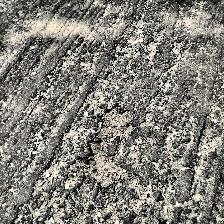pothole: (80, 108, 130, 186)
